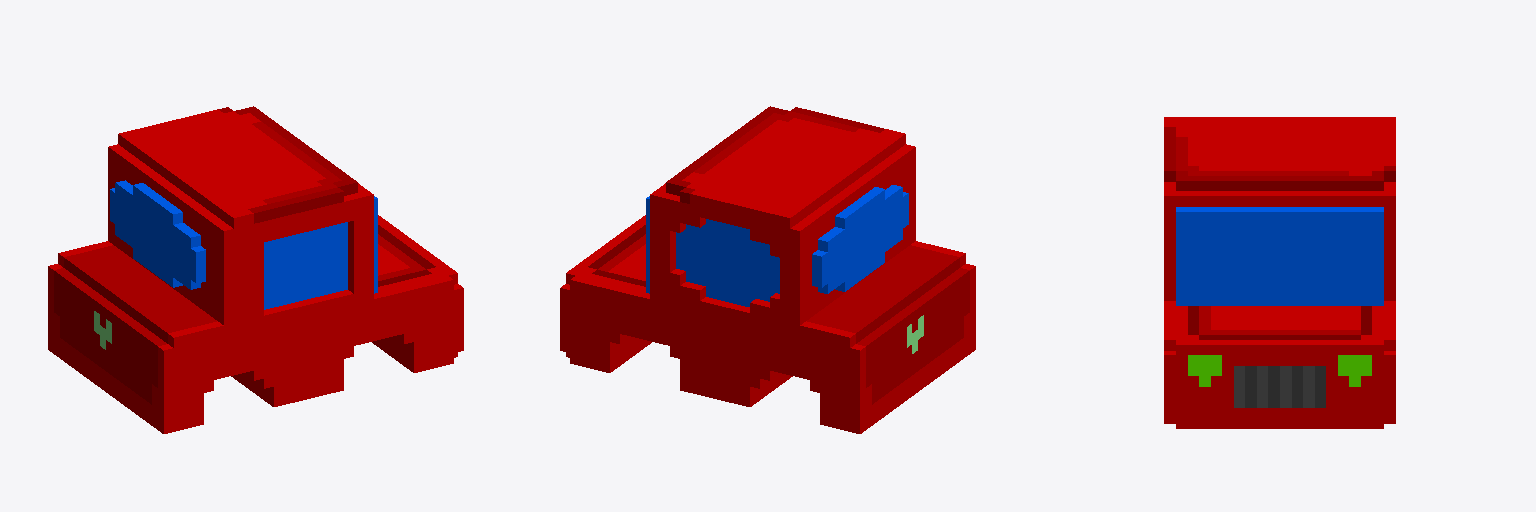
3 renders of one model, left to right at view 1: azimuth 30°, elevation 25°; view 2: azimuth 150°, elevation 25°; view 3: azimuth 270°, elevation 25°, orthographic.
Visible parts, largest first — view 1: object 1; view 2: object 1; view 3: object 1.
Boxes of the visible parts, x1,y1,x2,y2 form: object 1: [48, 106, 463, 433]; object 1: [560, 106, 975, 433]; object 1: [1164, 117, 1395, 428].
Size of the model in its own units: 3 by 1.9 by 2.
1 materials, 1 textured.